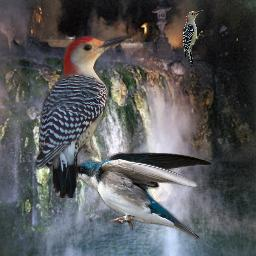Swallow: (67, 150, 214, 240)
Woodpecker: (35, 35, 131, 198), (183, 9, 204, 69)
